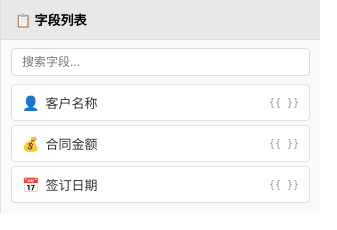
it: FieldPanel › shows empty state when no fields match
The image size is (337, 230).
Type "不存在的字段" into the field with placeholder "搜索字段..." at (160, 62), box [11, 48, 310, 76]
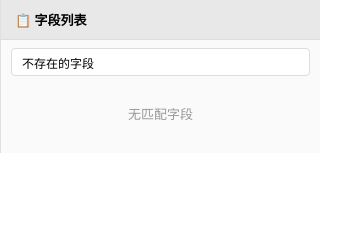
Result: the text "无匹配字段" is shown at [128, 106, 193, 122]
Result: no elements with test id "field-item" are shown
